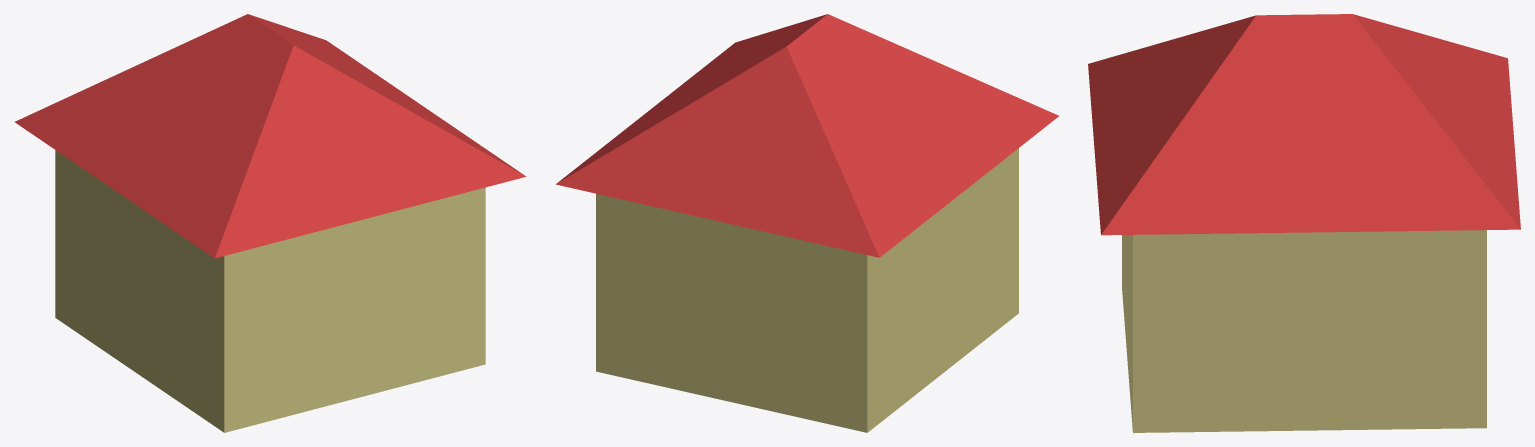
3 renders of one model, left to right at view 1: azimuth 30°, elevation 25°; view 2: azimuth 150°, elevation 25°; view 3: azimuth 270°, elevation 25°, orthographic. The views are drawn at different scales.
Visible parts, largest first — view 1: group_5, group_3, group_4; view 2: group_5, group_3, group_4; view 3: group_3, group_5, group_4.
Part boxes in pixels (x1=…): group_5: x1=55, y1=150, x2=485, y2=432; group_3: x1=15, y1=14, x2=524, y2=257; group_4: x1=126, y1=35, x2=526, y2=258; group_5: x1=596, y1=148, x2=1018, y2=432; group_3: x1=555, y1=14, x2=1058, y2=257; group_4: x1=556, y1=37, x2=1058, y2=237; group_3: x1=1101, y1=14, x2=1520, y2=235; group_5: x1=1122, y1=230, x2=1486, y2=432; group_4: x1=1088, y1=54, x2=1520, y2=234.
Size of the model in its own units: 12.67 by 13.1 by 11.5.
